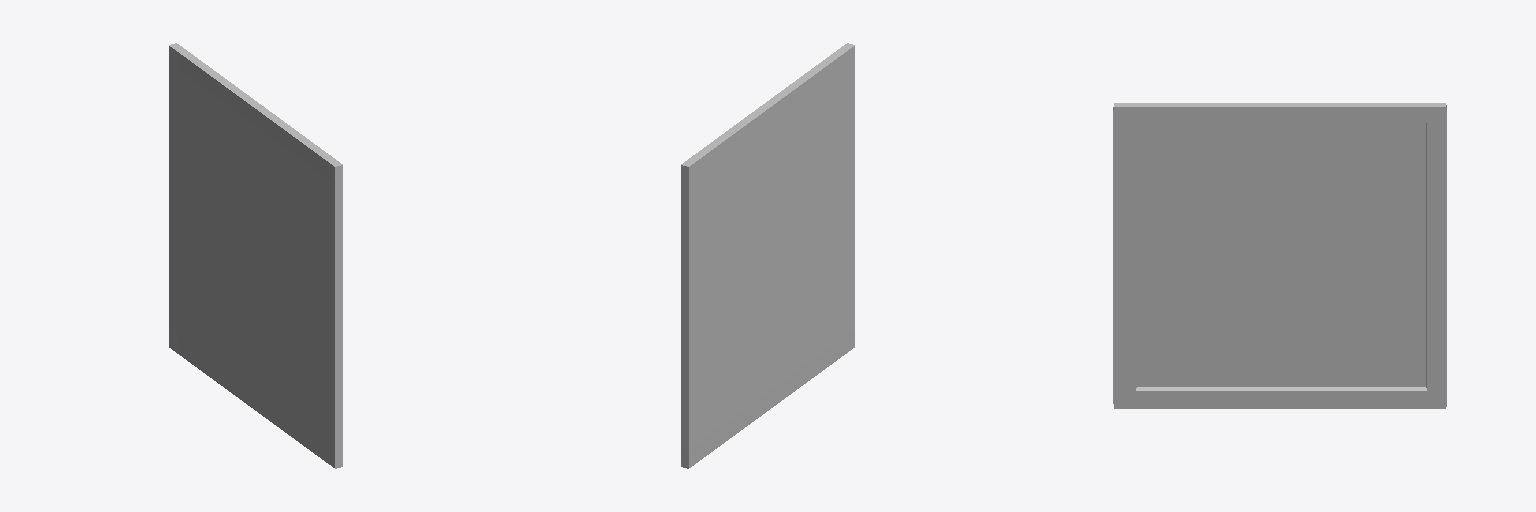
The model's file is Picture_Frame.obj.
3 renders of one model, left to right at view 1: azimuth 30°, elevation 25°; view 2: azimuth 150°, elevation 25°; view 3: azimuth 270°, elevation 25°, orthographic.
Visible parts, largest first — view 1: Cube_Cube.001; view 2: Cube_Cube.001; view 3: Cube_Cube.001.
Boxes of the visible parts, x1,y1,x2,y2 form: Cube_Cube.001: [169, 43, 342, 468]; Cube_Cube.001: [681, 43, 854, 468]; Cube_Cube.001: [1113, 103, 1446, 408].
Size of the model in its own units: 0.0163 by 0.5535 by 0.5535.